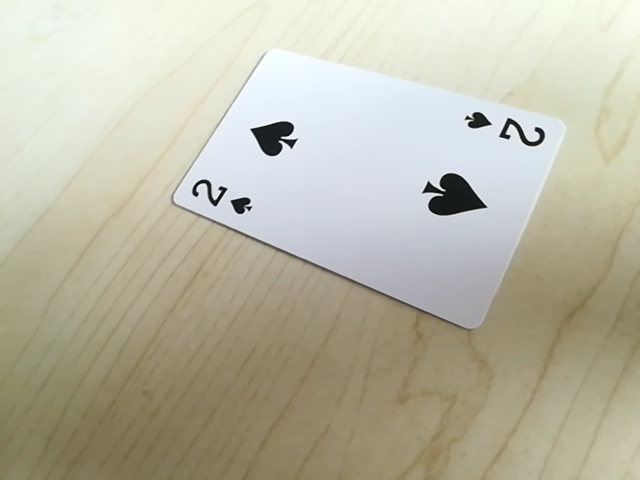ht 2: (459, 109, 554, 152), (182, 176, 258, 222)
